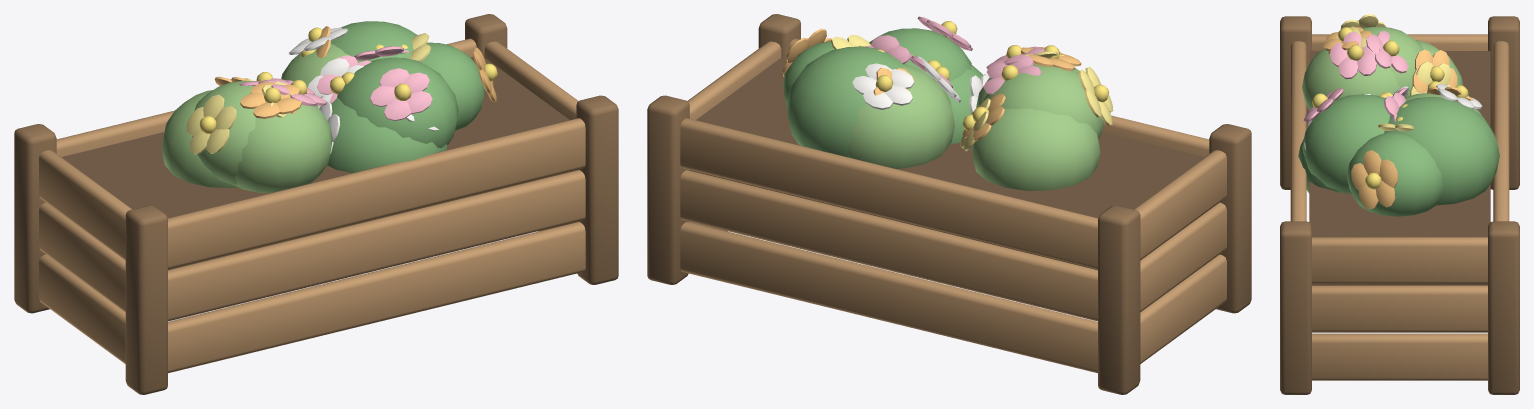
File: Prop_Planter.fbx
3 views of the same model, side by side, from view 1: azimuth 30°, elevation 25°; view 2: azimuth 150°, elevation 25°; view 3: azimuth 270°, elevation 25° (orthographic). The views are drawn at different scales.
Parts seen in each view (by area): view 1: Planter; view 2: Planter; view 3: Planter.
Boxes of the visible parts, x1,y1,x2,y2 form: Planter: (14,14,618,394); Planter: (647,14,1251,394); Planter: (1280,14,1519,394).
Bounding box in the file's own units: 0.97 × 0.4696 × 0.45.
